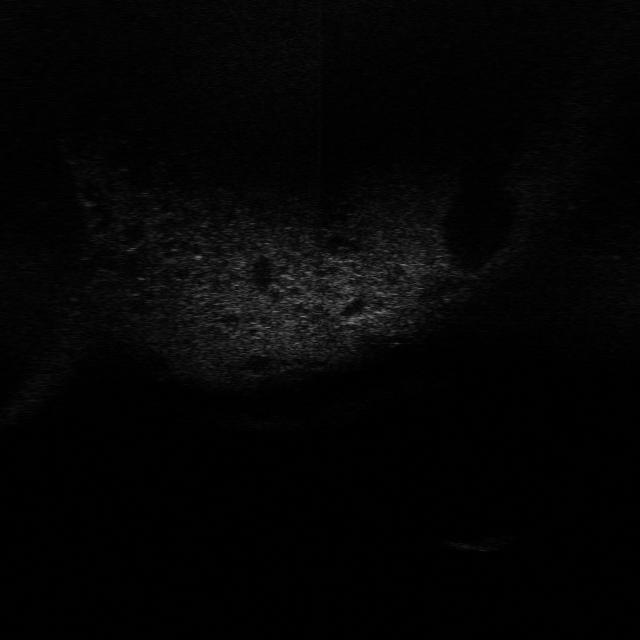cube: (444, 530, 516, 558)
